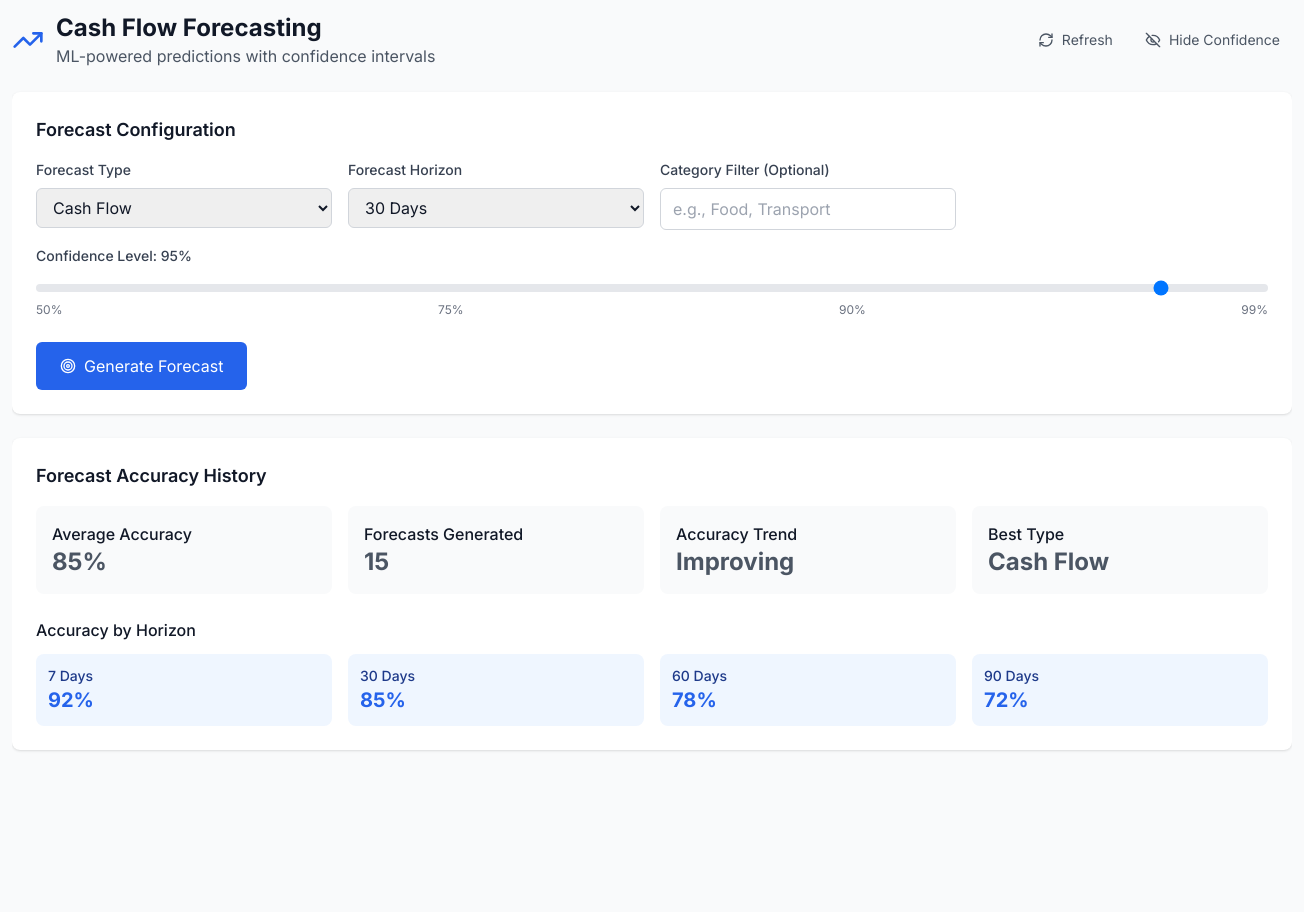
Test: ForecastingDashboard › toggles confidence intervals visibility
Step 1. Click the button "Hide Confidence" → (1212, 40), box [1133, 22, 1292, 58]
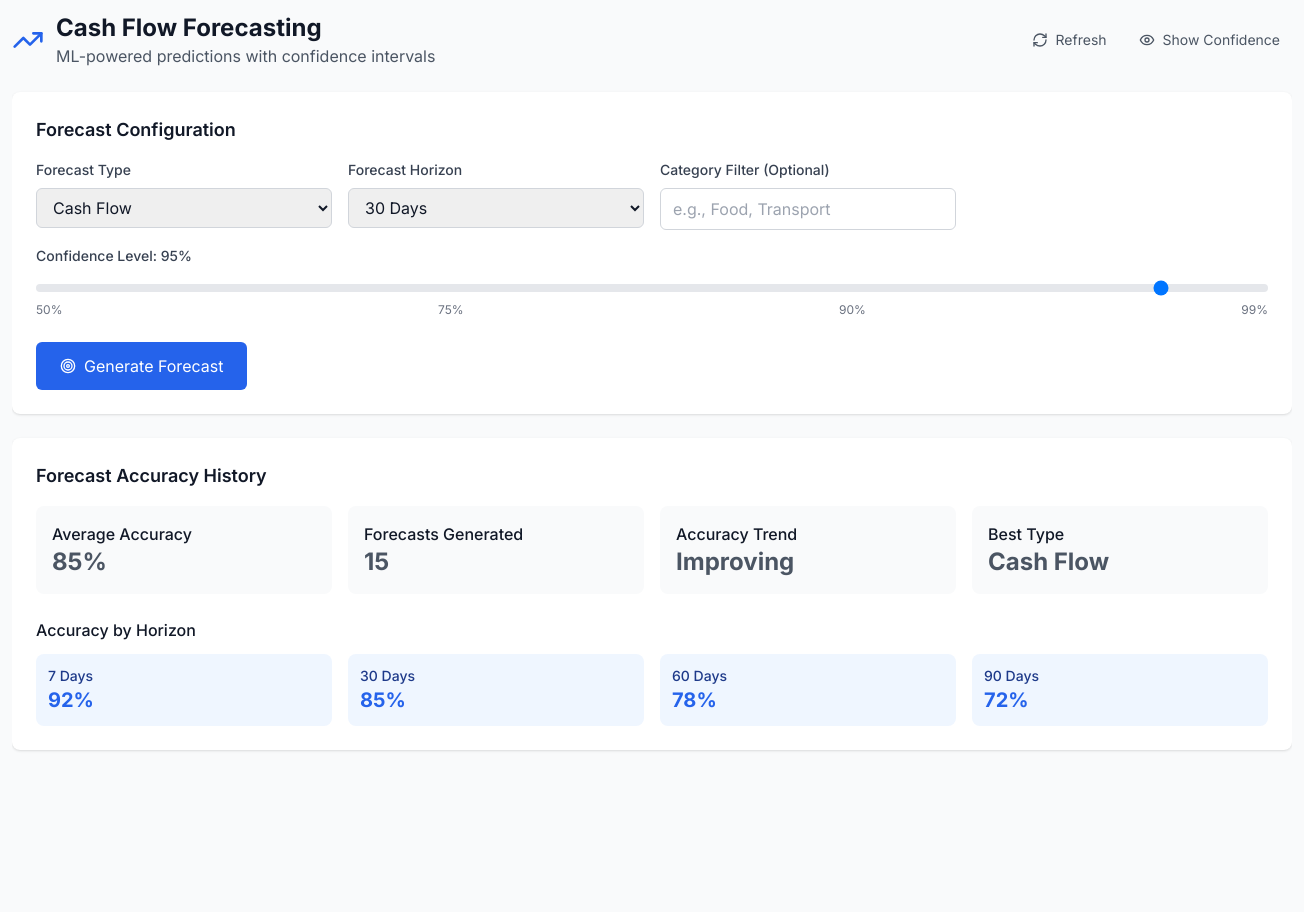
Expected: the button "Show Confidence" is shown
Step 2. Click the button "Show Confidence" → (1209, 40), box [1127, 22, 1292, 58]
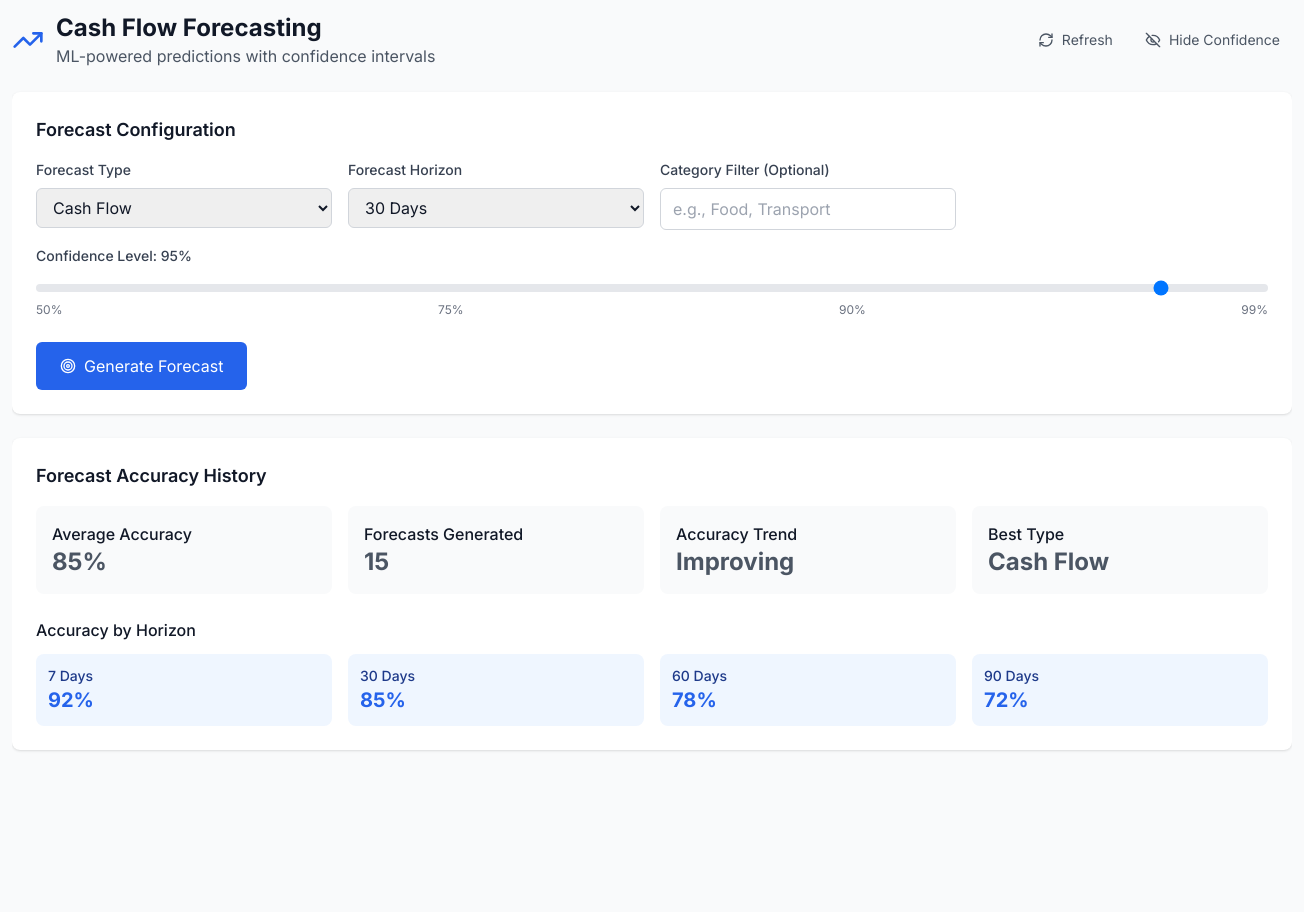
Expected: the button "Hide Confidence" is shown, [1133, 22, 1292, 58]
